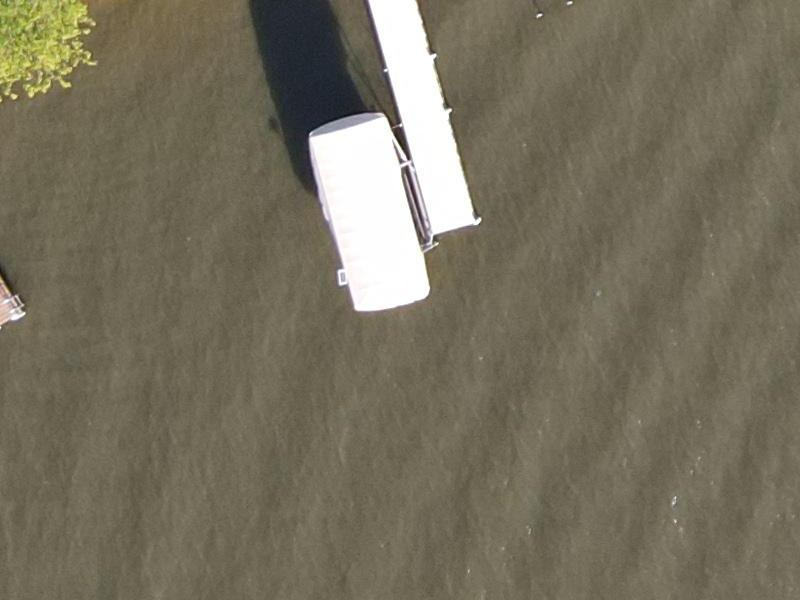boat: (321, 1, 511, 254), (1, 41, 37, 373)
lift: (292, 75, 434, 324)
